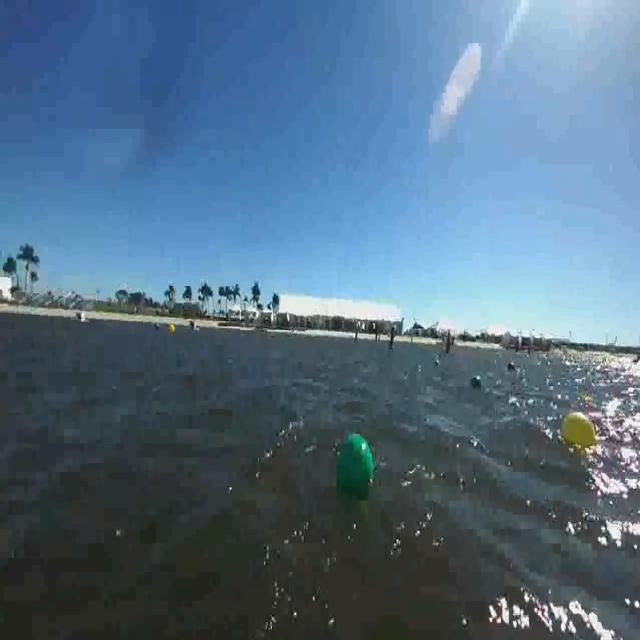green-buoy: (337, 432, 376, 488)
yellow-buoy: (557, 410, 596, 459), (170, 322, 177, 334)
